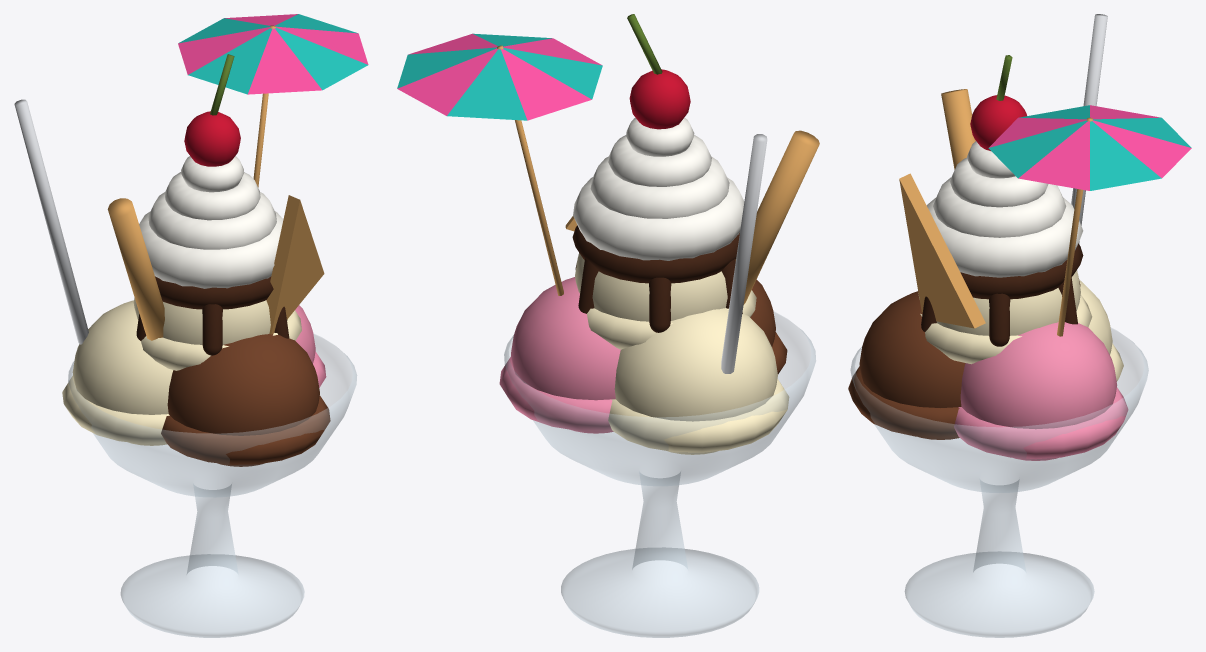
Rendered from ijsje.glb.
3 renders of one model, left to right at view 1: azimuth 30°, elevation 25°; view 2: azimuth 150°, elevation 25°; view 3: azimuth 270°, elevation 25°, orthographic. The views are drawn at different scales.
Visible parts, largest first — view 1: IJsje_Topping, IJsje_Scoops, IJsje_Glass, IJsje_Spoon; view 2: IJsje_Topping, IJsje_Scoops, IJsje_Glass, IJsje_Spoon; view 3: IJsje_Topping, IJsje_Scoops, IJsje_Glass, IJsje_Spoon.
Part boxes in pixels (x1=…): IJsje_Topping: x1=107, y1=14, x2=368, y2=355; IJsje_Scoops: x1=62, y1=297, x2=330, y2=466; IJsje_Glass: x1=68, y1=334, x2=357, y2=637; IJsje_Spoon: x1=14, y1=99, x2=88, y2=344; IJsje_Topping: x1=397, y1=14, x2=819, y2=332; IJsje_Scoops: x1=499, y1=253, x2=789, y2=454; IJsje_Glass: x1=504, y1=311, x2=815, y2=637; IJsje_Spoon: x1=721, y1=134, x2=767, y2=373; IJsje_Topping: x1=899, y1=55, x2=1191, y2=346; IJsje_Scoops: x1=848, y1=270, x2=1128, y2=460; IJsje_Glass: x1=850, y1=328, x2=1148, y2=637; IJsje_Spoon: x1=1071, y1=14, x2=1107, y2=243.
Bounding box in the file's own units: 0.1868 × 0.2842 × 0.1596.
